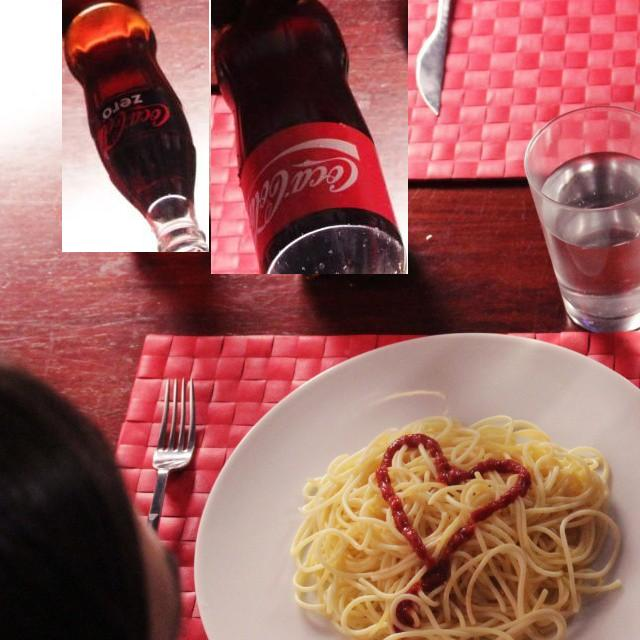coca-cola: (211, 0, 408, 274), (62, 0, 209, 252)
